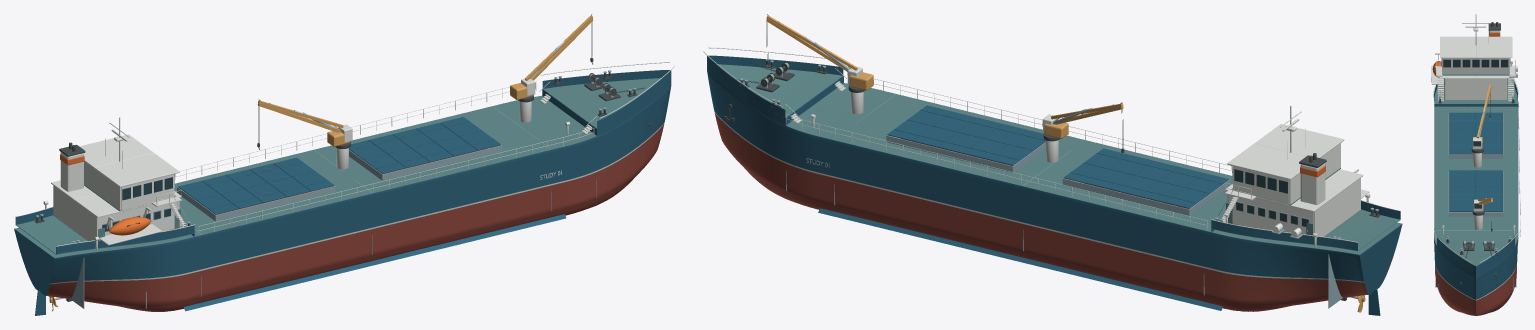
File: load_fuel_ship.glb
3 renders of one model, left to right at view 1: azimuth 30°, elevation 25°; view 2: azimuth 150°, elevation 25°; view 3: azimuth 270°, elevation 25°, orthographic. The views are drawn at different scales.
Parts seen in each view (by area): view 1: Hull_near_structure.001, Decks_far_cover.001, Decks_near_cover.001, Equipment_far_structure.001, Decks_far_structure.001, Accommodation_near_cover.001, Accommodation_far_structure.001, Hull_far_structure.001, Accommodation_far_cover.001, Decks_near_structure.001, Hull_near_cover.001, Forecastle_far_structure.001 (+5 smaller); view 2: Hull_far_structure.001, Decks_far_structure.001, Decks_far_cover.001, Accommodation_far_structure.001, Equipment_far_structure.001, Decks_near_cover.001, Accommodation_near_cover.001, Accommodation_far_cover.001, Forecastle_near_cover.001, Hull_near_cover.001, Forecastle_far_structure.001, Equipment_near_structure.001 (+3 smaller); view 3: Decks_far_cover.001, Decks_far_structure.001, Decks_near_cover.001, Accommodation_far_cover.001, Hull_far_structure.001, Hull_near_structure.001, Equipment_far_structure.001, Accommodation_far_structure.001, Accommodation_near_cover.001, Forecastle_far_structure.001, Forecastle_near_cover.001, Hull_near_cover.001 (+5 smaller).
Boxes of the visible parts, box(x1,y1,x2,y2) form: Hull_near_structure.001: box(45, 78, 671, 311); Decks_far_cover.001: box(178, 117, 500, 214); Decks_near_cover.001: box(34, 116, 596, 258); Equipment_far_structure.001: box(16, 14, 669, 250); Decks_far_structure.001: box(14, 96, 569, 243); Accommodation_near_cover.001: box(74, 153, 181, 240); Accommodation_far_structure.001: box(51, 117, 187, 231); Hull_far_structure.001: box(14, 70, 671, 295); Accommodation_far_cover.001: box(53, 161, 179, 240); Decks_near_structure.001: box(216, 145, 501, 221); Hull_near_cover.001: box(56, 70, 671, 254); Forecastle_far_structure.001: box(539, 78, 661, 133); Hull_far_structure.001: box(707, 56, 1401, 311); Decks_far_structure.001: box(786, 104, 1380, 255); Decks_far_cover.001: box(887, 105, 1228, 208); Accommodation_far_structure.001: box(1218, 105, 1338, 236); Equipment_far_structure.001: box(703, 14, 1380, 247); Decks_near_cover.001: box(815, 83, 1402, 239); Accommodation_near_cover.001: box(1254, 124, 1363, 226); Accommodation_far_cover.001: box(1227, 143, 1360, 236); Forecastle_near_cover.001: box(717, 64, 842, 96); Hull_near_cover.001: box(707, 55, 1400, 219); Forecastle_far_structure.001: box(722, 68, 846, 123); Equipment_near_structure.001: box(847, 75, 1231, 172); Decks_far_cover.001: box(1449, 112, 1502, 211); Decks_far_structure.001: box(1448, 106, 1517, 245); Decks_near_cover.001: box(1434, 106, 1475, 245); Accommodation_far_cover.001: box(1442, 58, 1509, 100); Hull_far_structure.001: box(1476, 77, 1518, 315); Hull_near_structure.001: box(1434, 238, 1476, 315); Equipment_far_structure.001: box(1431, 53, 1520, 284); Accommodation_far_structure.001: box(1436, 14, 1515, 101); Accommodation_near_cover.001: box(1440, 36, 1475, 100); Forecastle_far_structure.001: box(1442, 236, 1509, 270); Forecastle_near_cover.001: box(1442, 241, 1475, 270); Hull_near_cover.001: box(1434, 84, 1476, 271).
Bounding box in the file's own units: 155 × 42.16 × 26.52.
